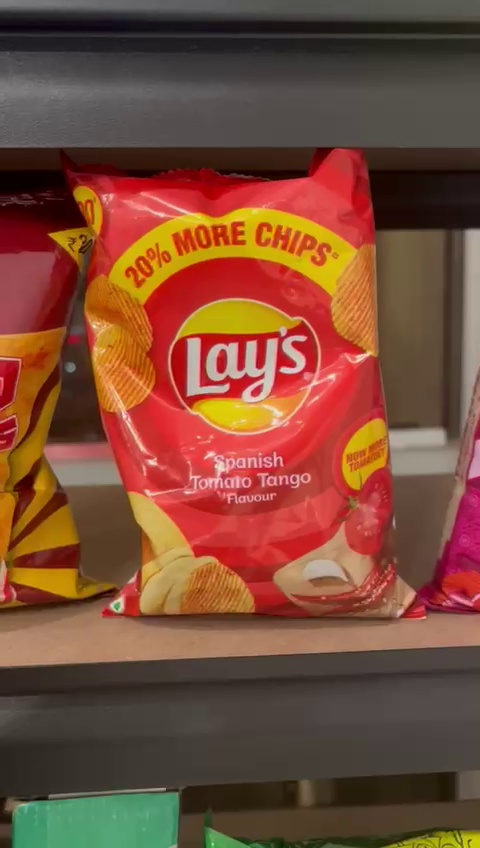Lays: (69, 168, 403, 619)
